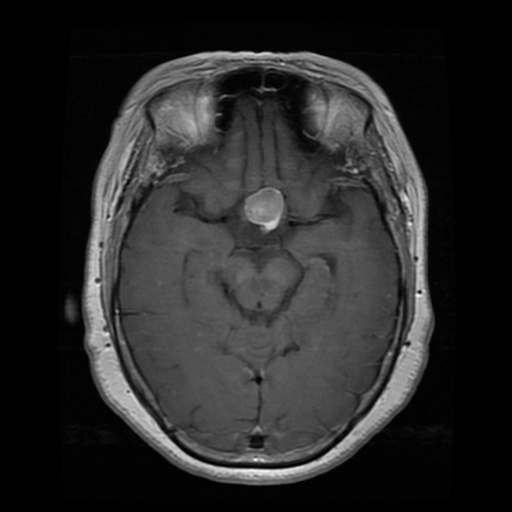pituitary: (244, 186, 284, 227)
